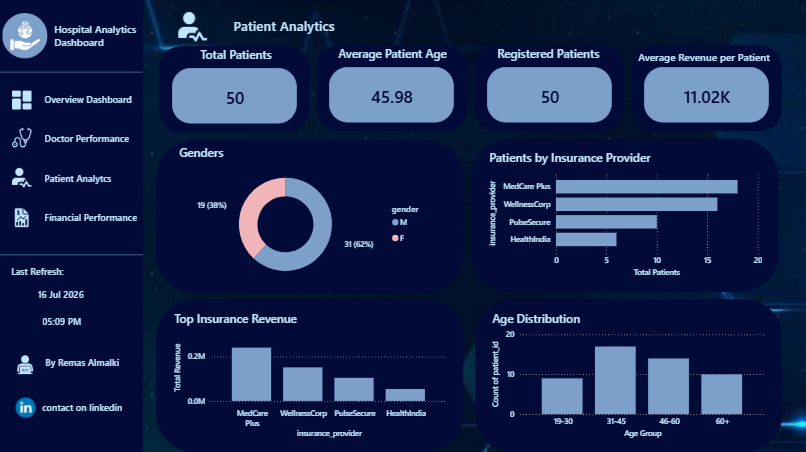

This screenshot's page, from the dashboard's own definition file:
{"tool":"powerbi","page":{"name":"Patient Analytics","canvas":[1280,720],"ordinal":2},"visuals":[{"type":"shape","box":[0,0,226.8,720.6],"z":0},{"type":"shape","box":[251.7,74.1,238.3,136.7],"z":0,"group":"g4"},{"type":"actionButton","box":[66.2,133.9,159.8,50.4],"z":0,"group":"g1"},{"type":"cardVisual","fields":{"Data":["Measures1.Refresh Date"]},"box":[30,437.1,165.7,58.6],"z":0,"group":"g2"},{"type":"image","box":[20,562.5,39.2,38.3],"z":0,"group":"g3"},{"type":"cardVisual","fields":{"Data":["Measures1.Total Patients"]},"box":[271.7,109.1,198.3,88.3],"z":1000,"group":"g4"},{"type":"group","id":"g1","title":"Group 1","box":[19.1,133.9,207.3,239.4],"z":1000},{"type":"image","box":[19.5,144.4,30.6,31.7],"z":1000,"group":"g1"},{"type":"textbox","box":[12.9,417.1,100,38.6],"z":1000,"group":"g2"},{"type":"textbox","box":[65.8,562.5,143.3,38.3],"z":1000,"group":"g3"},{"type":"image","box":[0,21.6,80.6,72],"z":2000},{"type":"shape","box":[1001.7,72.4,238.3,136.7],"z":2000,"group":"g4"},{"type":"image","box":[19.1,202.7,30.9,36.4],"z":2000,"group":"g1"},{"type":"cardVisual","fields":{"Data":["Measures1.Refresh Time"]},"box":[50,480,105.7,55.7],"z":2000,"group":"g2"},{"type":"actionButton","box":[20,629.2,186.7,40],"z":2000,"group":"g3"},{"type":"textbox","box":[80.6,31.7,145.4,86.4],"z":3000},{"type":"shape","box":[751.7,72.4,238.3,136.7],"z":3000,"group":"g4"},{"type":"actionButton","box":[66.4,195.4,160,50.9],"z":3000,"group":"g1"},{"type":"shape","box":[0,57.6,226.1,118.1],"z":4000},{"type":"shape","box":[501.7,72.4,238.3,136.7],"z":4000,"group":"g4"},{"type":"image","box":[19.3,266,30.7,36.7],"z":4000,"group":"g1"},{"type":"textbox","box":[312.8,70.4,143.3,51.7],"z":5000,"group":"g4"},{"type":"actionButton","box":[66,258.6,160,51.3],"z":5000,"group":"g1"},{"type":"group","id":"g2","title":"Group 2","box":[12.9,417.1,182.9,118.6],"z":5000},{"type":"cardVisual","fields":{"Data":["Measures1.Average Patient Age"]},"box":[521.7,107.4,198.3,88.3],"z":6000,"group":"g4"},{"type":"actionButton","box":[66,322,160,51.3],"z":6000,"group":"g1"},{"type":"shape","box":[0,348.3,226.7,116.7],"z":6000},{"type":"image","box":[19.3,329.3,30.7,36.7],"z":7000,"group":"g1"},{"type":"group","id":"g3","title":"Group 3","box":[20,562.5,189.2,106.7],"z":7000},{"type":"group","id":"g4","title":"Group 4","box":[251.7,68.3,988.3,141.7],"z":8000},{"type":"cardVisual","fields":{"Data":["Measures1.Registered Patients"]},"box":[771.7,107.4,198.3,88.3],"z":8000,"group":"g4"},{"type":"textbox","box":[531.1,68.3,193.3,46.7],"z":9000,"group":"g4"},{"type":"textbox","box":[1008.3,76.7,220,58.3],"z":9000},{"type":"cardVisual","fields":{"Data":["Measures1.Avg Revenue per Patient"]},"box":[1021.7,107.4,198.3,88.3],"z":10000,"group":"g4"},{"type":"shape","box":[248.3,223.3,488.3,243.3],"z":10000},{"type":"textbox","box":[782.8,68.4,190,40],"z":11000,"group":"g4"},{"type":"donutChart","title":"Genders","fields":{"Category":["Dim_Patients.gender"],"Y":["Measures1.Total Patients"]},"box":[280,230,413.3,230],"z":11000},{"type":"shape","box":[748.3,221.7,488.3,243.3],"z":12000},{"type":"clusteredBarChart","title":"Patients by Insurance Provider","fields":{"Category":["Dim_Patients.insurance_provider"],"Y":["Measures1.Total Patients"]},"box":[771.7,238.3,443.3,208.3],"z":13000},{"type":"shape","box":[248.3,476.7,488.3,243.3],"z":14000},{"type":"clusteredColumnChart","title":"Top Insurance Revenue","fields":{"Category":["Dim_Patients.insurance_provider"],"Y":["Measures1.Total Revenue"]},"box":[271.7,493.3,443.3,208.3],"z":15000},{"type":"shape","box":[753.3,476.7,488.3,243.3],"z":16000},{"type":"clusteredColumnChart","title":"Age Distribution","fields":{"Y":["CountNonNull(Dim_Patients.patient_id)"],"Category":["Dim_Patients.Age Group"]},"box":[776.7,493.3,443.3,208.3],"z":17000},{"type":"image","box":[281.1,21.1,50,46.7],"z":18000},{"type":"textbox","box":[331.7,21.7,238.3,46.7],"z":19000}]}

Visuals, with their boxes on the page's 1280x720 design canvas (x1, y1, x2, y2). These are canvas units, not pixel positions in the 806x452 screenshot, which may show the page scaled, cropped or inside an application window:
shape: {"x1": 0, "y1": 0, "x2": 227, "y2": 721}
shape: {"x1": 252, "y1": 74, "x2": 490, "y2": 211}
actionButton: {"x1": 66, "y1": 134, "x2": 226, "y2": 184}
cardVisual - Measures1.Refresh Date: {"x1": 30, "y1": 437, "x2": 196, "y2": 496}
image: {"x1": 20, "y1": 562, "x2": 59, "y2": 601}
cardVisual - Measures1.Total Patients: {"x1": 272, "y1": 109, "x2": 470, "y2": 197}
"Group 1" group: {"x1": 19, "y1": 134, "x2": 226, "y2": 373}
image: {"x1": 20, "y1": 144, "x2": 50, "y2": 176}
textbox: {"x1": 13, "y1": 417, "x2": 113, "y2": 456}
textbox: {"x1": 66, "y1": 562, "x2": 209, "y2": 601}
image: {"x1": 0, "y1": 22, "x2": 81, "y2": 94}
shape: {"x1": 1002, "y1": 72, "x2": 1240, "y2": 209}
image: {"x1": 19, "y1": 203, "x2": 50, "y2": 239}
cardVisual - Measures1.Refresh Time: {"x1": 50, "y1": 480, "x2": 156, "y2": 536}
actionButton: {"x1": 20, "y1": 629, "x2": 207, "y2": 669}
textbox: {"x1": 81, "y1": 32, "x2": 226, "y2": 118}
shape: {"x1": 752, "y1": 72, "x2": 990, "y2": 209}
actionButton: {"x1": 66, "y1": 195, "x2": 226, "y2": 246}
shape: {"x1": 0, "y1": 58, "x2": 226, "y2": 176}
shape: {"x1": 502, "y1": 72, "x2": 740, "y2": 209}
image: {"x1": 19, "y1": 266, "x2": 50, "y2": 303}
textbox: {"x1": 313, "y1": 70, "x2": 456, "y2": 122}
actionButton: {"x1": 66, "y1": 259, "x2": 226, "y2": 310}
"Group 2" group: {"x1": 13, "y1": 417, "x2": 196, "y2": 536}
cardVisual - Measures1.Average Patient Age: {"x1": 522, "y1": 107, "x2": 720, "y2": 196}
actionButton: {"x1": 66, "y1": 322, "x2": 226, "y2": 373}
shape: {"x1": 0, "y1": 348, "x2": 227, "y2": 465}
image: {"x1": 19, "y1": 329, "x2": 50, "y2": 366}
"Group 3" group: {"x1": 20, "y1": 562, "x2": 209, "y2": 669}
"Group 4" group: {"x1": 252, "y1": 68, "x2": 1240, "y2": 210}
cardVisual - Measures1.Registered Patients: {"x1": 772, "y1": 107, "x2": 970, "y2": 196}
textbox: {"x1": 531, "y1": 68, "x2": 724, "y2": 115}
textbox: {"x1": 1008, "y1": 77, "x2": 1228, "y2": 135}
cardVisual - Measures1.Avg Revenue per Patient: {"x1": 1022, "y1": 107, "x2": 1220, "y2": 196}
shape: {"x1": 248, "y1": 223, "x2": 737, "y2": 467}
textbox: {"x1": 783, "y1": 68, "x2": 973, "y2": 108}
"Genders" donutChart: {"x1": 280, "y1": 230, "x2": 693, "y2": 460}
shape: {"x1": 748, "y1": 222, "x2": 1237, "y2": 465}
"Patients by Insurance Provider" clusteredBarChart: {"x1": 772, "y1": 238, "x2": 1215, "y2": 447}
shape: {"x1": 248, "y1": 477, "x2": 737, "y2": 720}
"Top Insurance Revenue" clusteredColumnChart: {"x1": 272, "y1": 493, "x2": 715, "y2": 702}
shape: {"x1": 753, "y1": 477, "x2": 1242, "y2": 720}
"Age Distribution" clusteredColumnChart: {"x1": 777, "y1": 493, "x2": 1220, "y2": 702}
image: {"x1": 281, "y1": 21, "x2": 331, "y2": 68}
textbox: {"x1": 332, "y1": 22, "x2": 570, "y2": 68}
